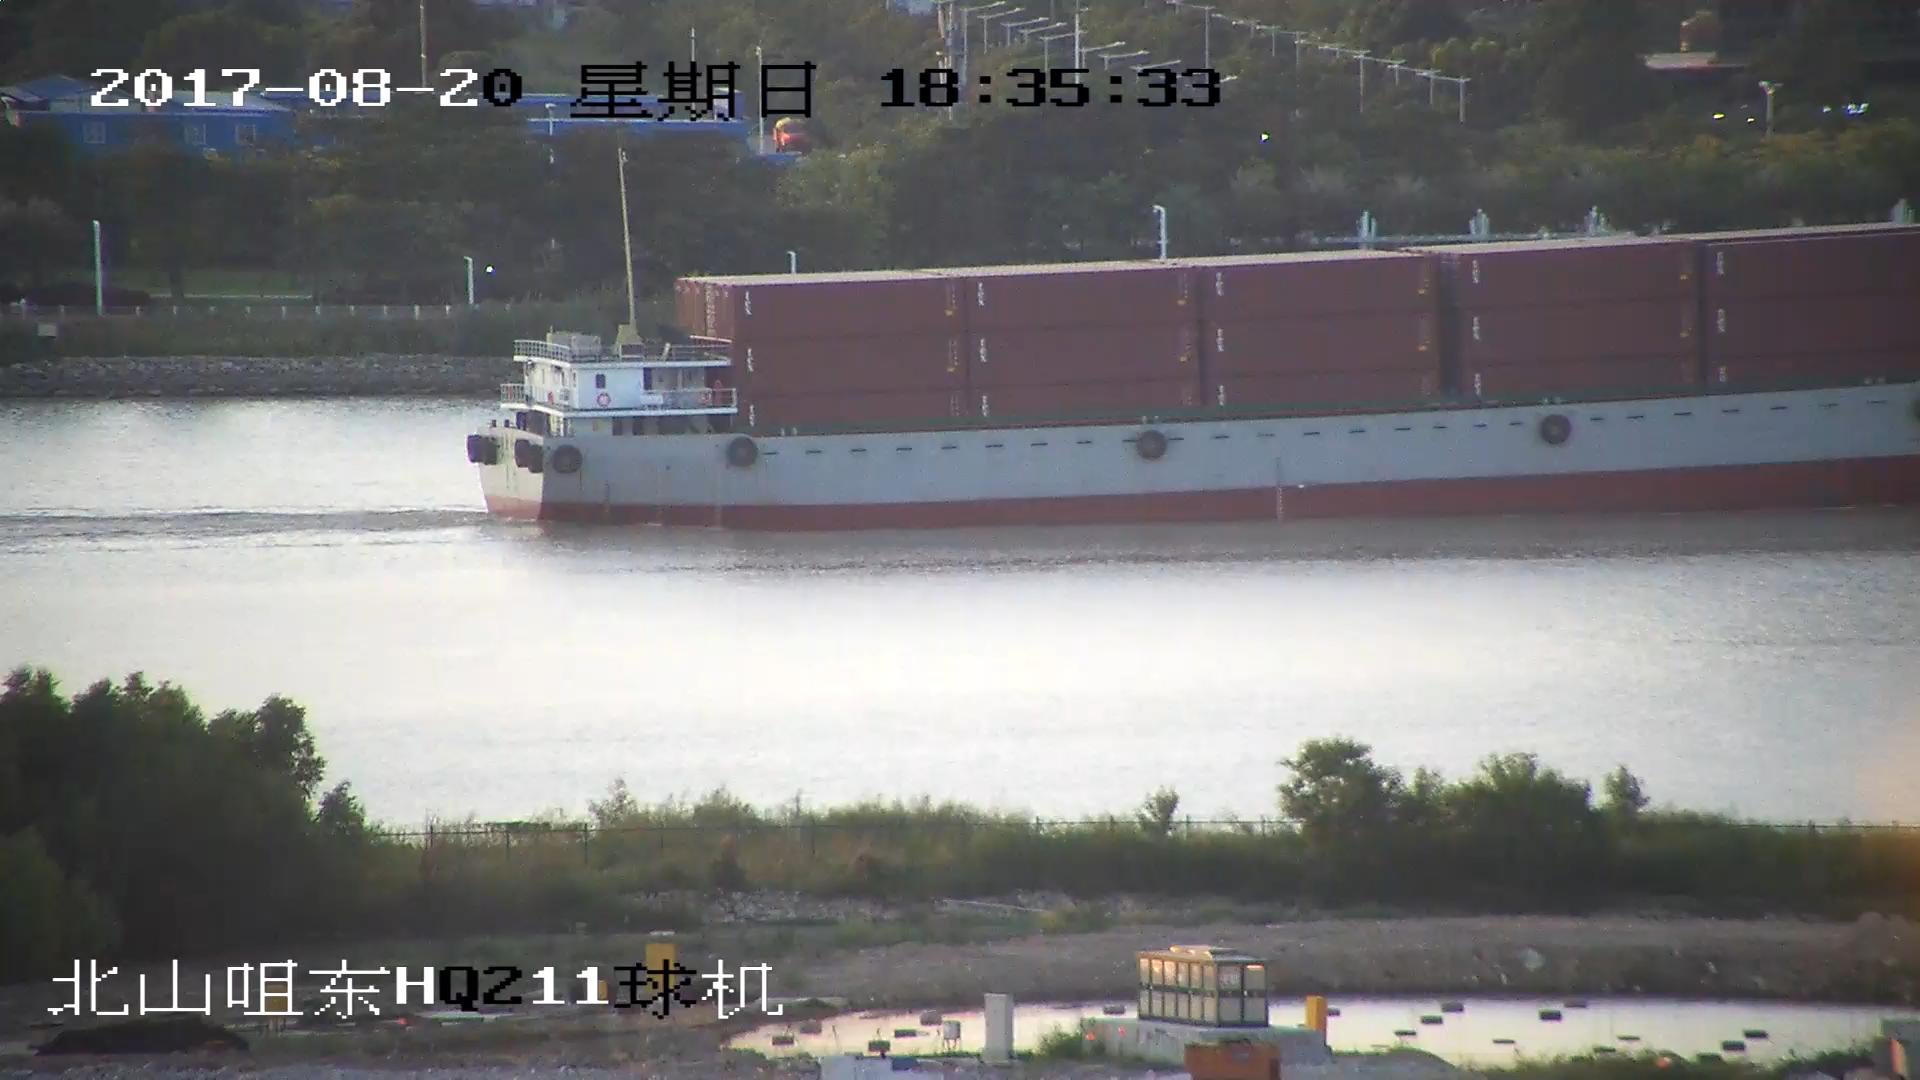container ship: (466, 146, 1920, 526)
